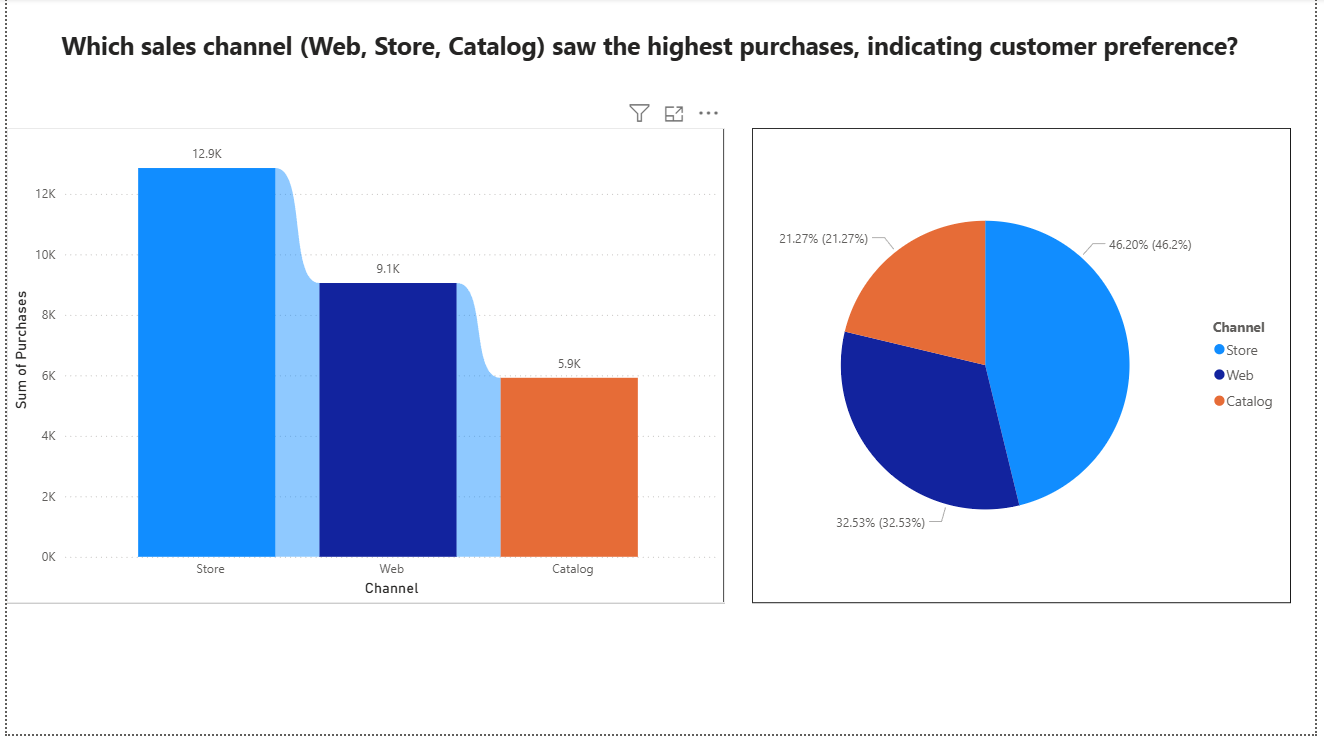

The dashboard page shown, as its layout file describes it:
{"tool":"powerbi","page":{"name":"Page 3","canvas":[1280,720],"ordinal":2},"visuals":[{"type":"textbox","box":[9.8,25.7,1237.5,57.5],"z":0},{"type":"columnChart","fields":{"Category":["ChannelPurchases.Channel"],"Y":["Sum(ChannelPurchases.Purchases)"]},"box":[0,127.2,701.9,464.7],"z":1000},{"type":"pieChart","fields":{"Category":["ChannelPurchases.Channel"],"Y":["Sum(ChannelPurchases.Purchases)"]},"box":[728.8,127.2,527,464.7],"z":2000}]}

Visuals, with their boxes in screenshot pixels (x1, y1, x2, y2), scaled from the page's 1280x720 canvas onto the 1324x738 screenshot:
textbox: {"x1": 10, "y1": 26, "x2": 1290, "y2": 85}
columnChart - ChannelPurchases.Channel x Sum(ChannelPurchases.Purchases): {"x1": 0, "y1": 130, "x2": 726, "y2": 607}
pieChart - ChannelPurchases.Channel x Sum(ChannelPurchases.Purchases): {"x1": 754, "y1": 130, "x2": 1299, "y2": 607}
